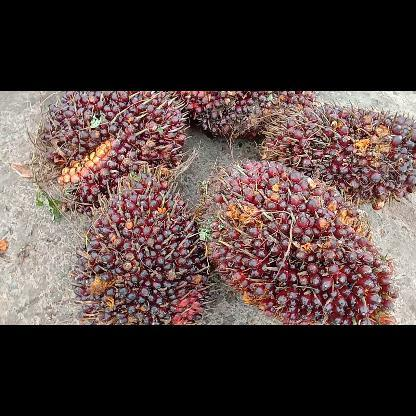Kurang masak: (193, 156, 401, 324), (69, 166, 211, 324), (37, 91, 191, 216), (258, 102, 414, 214), (169, 91, 319, 143)
